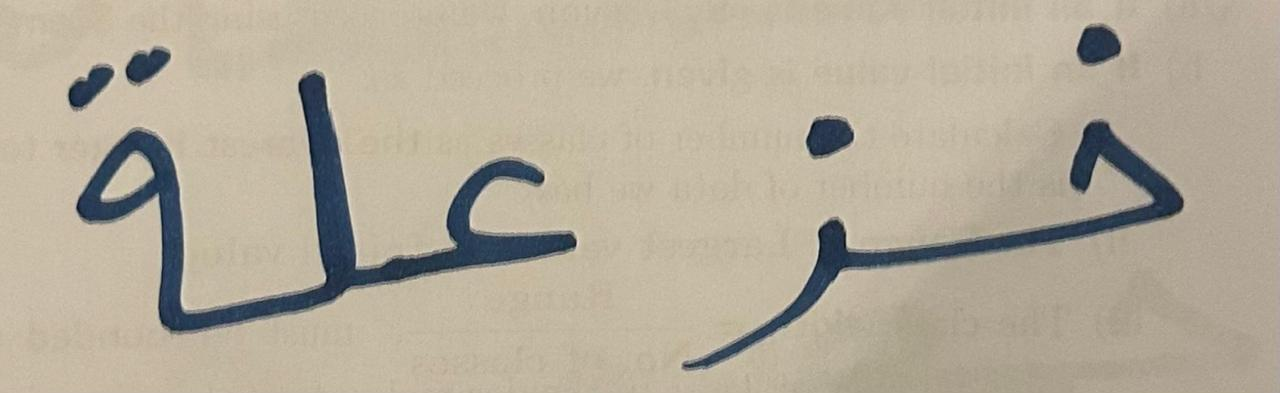ain: (386, 71, 605, 337)
hamza: (631, 65, 913, 383)
lam: (920, 13, 1219, 335)
meem: (208, 30, 380, 342)
thal: (26, 20, 202, 376)
